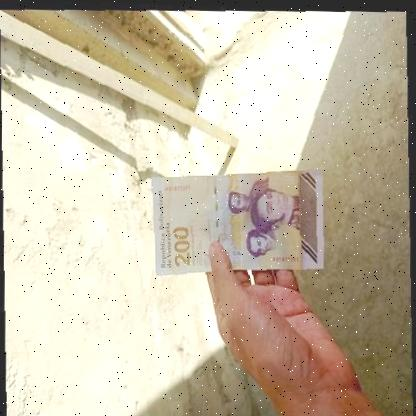two_hundred-front-vef: (148, 163, 326, 279)
